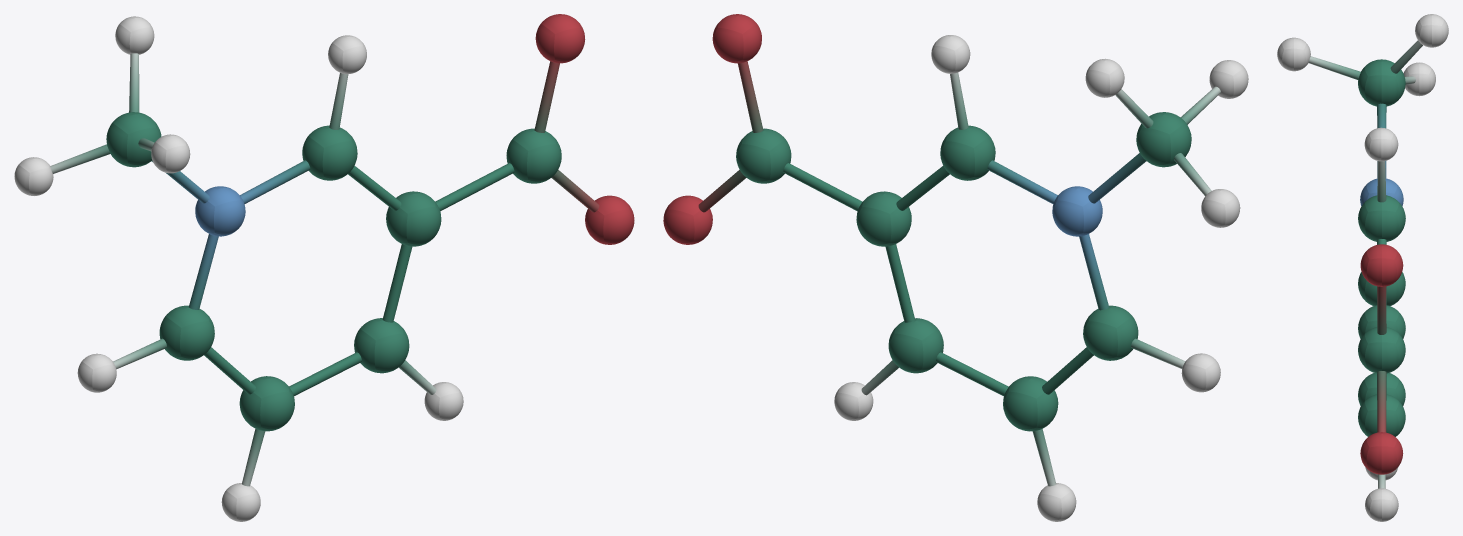
Rendered from Trigonelline.fbx.
3 renders of one model, left to right at view 1: azimuth 30°, elevation 25°; view 2: azimuth 150°, elevation 25°; view 3: azimuth 270°, elevation 25°, orthographic. The views are drawn at different scales.
Visible parts, largest first — view 1: curMeshHyperballExportedMesh; view 2: curMeshHyperballExportedMesh; view 3: curMeshHyperballExportedMesh.
Boxes of the visible parts, left/top/right/bottom form: curMeshHyperballExportedMesh: left=14, top=14, right=634, bottom=521; curMeshHyperballExportedMesh: left=663, top=14, right=1248, bottom=521; curMeshHyperballExportedMesh: left=1277, top=14, right=1448, bottom=521.
Size of the model in its own units: 6.99 by 5.63 by 2.03.
